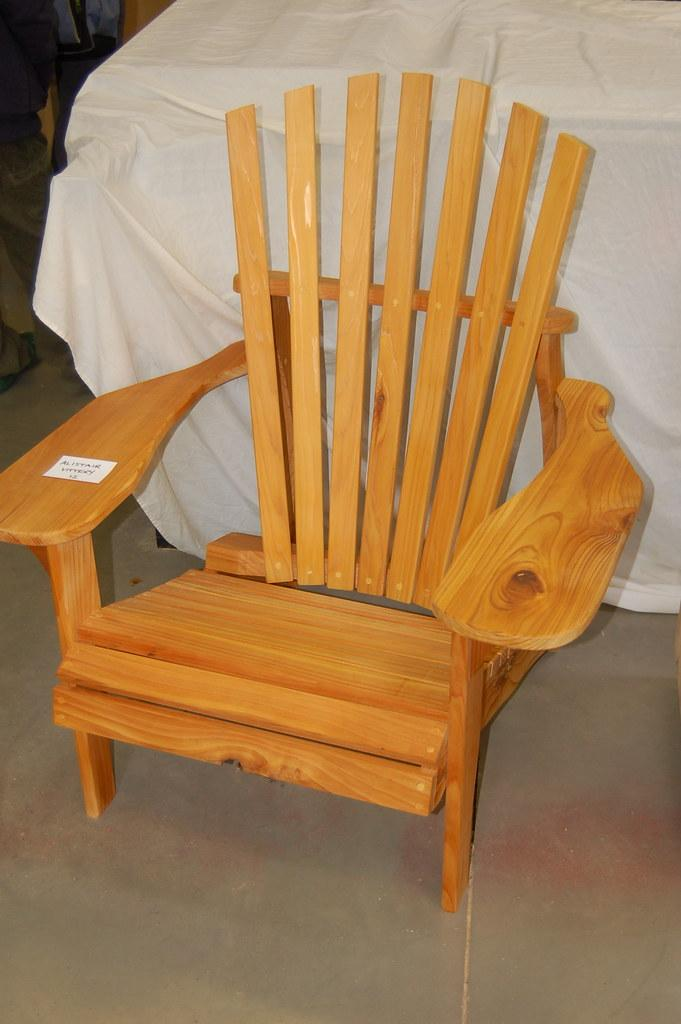chair: (1, 71, 645, 913)
